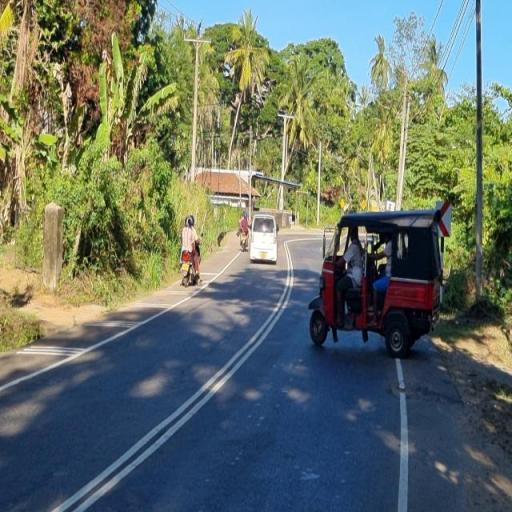double_white_line: (48, 237, 297, 512)
